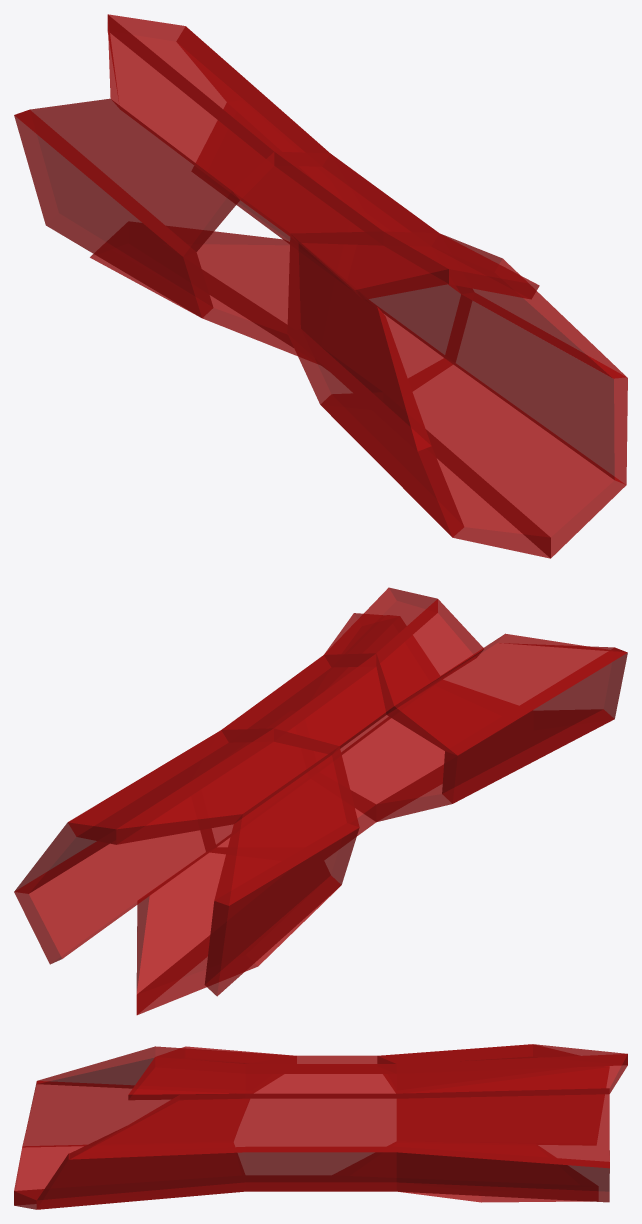
Rendered from SM_Prop_Swamp_Log_05_Collision.fbx.
3 renders of one model, top to bottom at view 1: azimuth 30°, elevation 25°; view 2: azimuth 150°, elevation 25°; view 3: azimuth 270°, elevation 25°, orthographic. The views are drawn at different scales.
Parts seen in each view (by area): view 1: SM_Prop_Swamp_Log_05_Collision; view 2: SM_Prop_Swamp_Log_05_Collision; view 3: SM_Prop_Swamp_Log_05_Collision.
Boxes of the visible parts, left/top/right/bottom form: SM_Prop_Swamp_Log_05_Collision: left=14, top=14, right=627, bottom=558; SM_Prop_Swamp_Log_05_Collision: left=14, top=587, right=627, bottom=1015; SM_Prop_Swamp_Log_05_Collision: left=14, top=1044, right=627, bottom=1209.
Size of the model in its own units: 435 by 382 by 1398.
